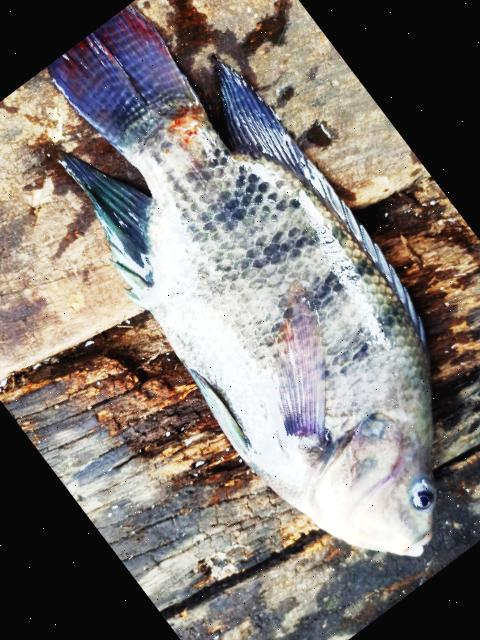Edwardsiella Ictaluri -Bacterial Red Disease-: (46, 4, 435, 555)
